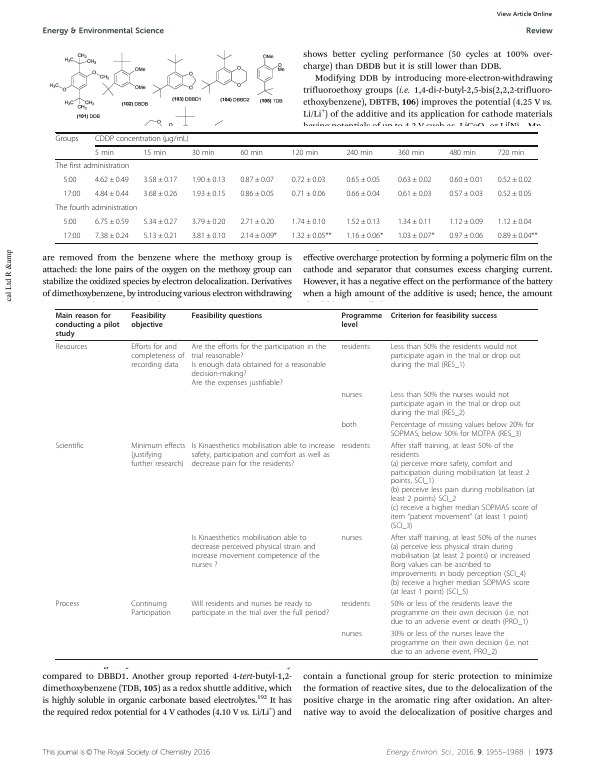borderless: (54, 307, 538, 659), (54, 131, 538, 243)
cell: (390, 441, 538, 531), (390, 533, 537, 597), (190, 342, 327, 387), (190, 533, 320, 570), (190, 441, 336, 468), (390, 599, 530, 627), (390, 629, 530, 657), (390, 342, 521, 370), (390, 390, 521, 417), (190, 599, 330, 618), (390, 420, 535, 438), (55, 311, 120, 338), (130, 342, 185, 370), (130, 441, 186, 468), (390, 311, 498, 320), (94, 135, 190, 144), (55, 203, 138, 213), (130, 599, 172, 618), (340, 311, 383, 329), (55, 161, 130, 171), (130, 311, 167, 329), (190, 311, 263, 320), (291, 231, 332, 241), (497, 231, 538, 241), (239, 231, 278, 241), (345, 231, 384, 241), (397, 231, 435, 241), (94, 175, 130, 185), (142, 175, 178, 185), (239, 175, 275, 185), (345, 175, 381, 185), (448, 175, 484, 185), (94, 189, 130, 199), (142, 189, 178, 199), (239, 189, 275, 199), (345, 189, 381, 199), (448, 189, 484, 199), (94, 217, 130, 227), (142, 217, 178, 227), (239, 217, 275, 227), (345, 217, 381, 227), (448, 217, 484, 227), (94, 231, 130, 241), (142, 231, 178, 241), (448, 231, 484, 241), (191, 175, 226, 185), (291, 175, 326, 185), (397, 175, 432, 185), (497, 175, 532, 185), (191, 189, 226, 199), (291, 189, 326, 199), (397, 189, 432, 199), (497, 189, 532, 199), (191, 217, 226, 227), (291, 217, 326, 227), (397, 217, 432, 227), (497, 217, 532, 227), (191, 231, 226, 241), (55, 342, 88, 352), (340, 342, 371, 352), (340, 599, 371, 609), (54, 441, 85, 450), (340, 441, 371, 450), (345, 148, 374, 157), (448, 148, 477, 157), (54, 599, 80, 609), (291, 148, 319, 157), (397, 148, 425, 157), (497, 148, 525, 157), (340, 533, 363, 543), (340, 629, 363, 639), (142, 148, 167, 157), (239, 148, 264, 157), (55, 135, 79, 144), (191, 148, 215, 157), (340, 390, 363, 399), (62, 189, 81, 199), (62, 231, 81, 241), (94, 148, 115, 157), (340, 420, 358, 429), (62, 175, 77, 185), (62, 217, 77, 227)
